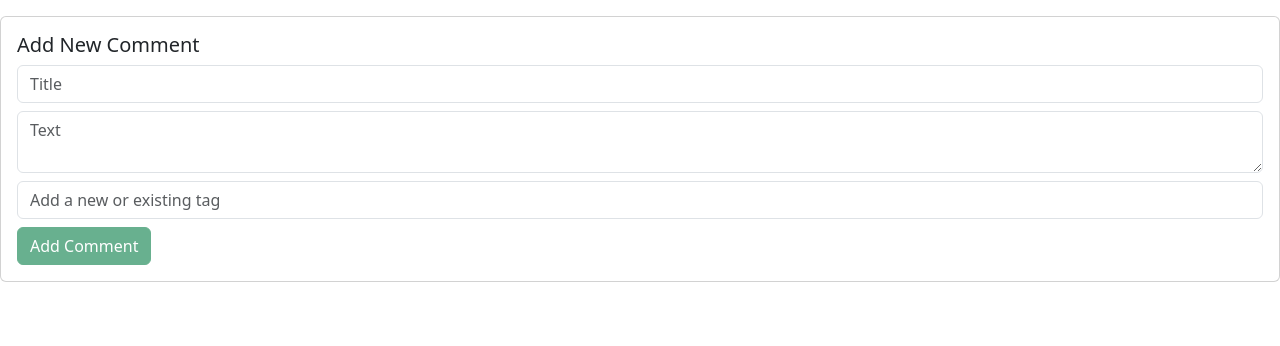
Test: CommentForm Component › adds a tag when pressing Enter
The width and height of the screenshot is (1280, 346).
Type "urgent" into the field with placeholder "Add a new or existing tag" at {"x": 640, "y": 200}, box [17,181,1263,219]
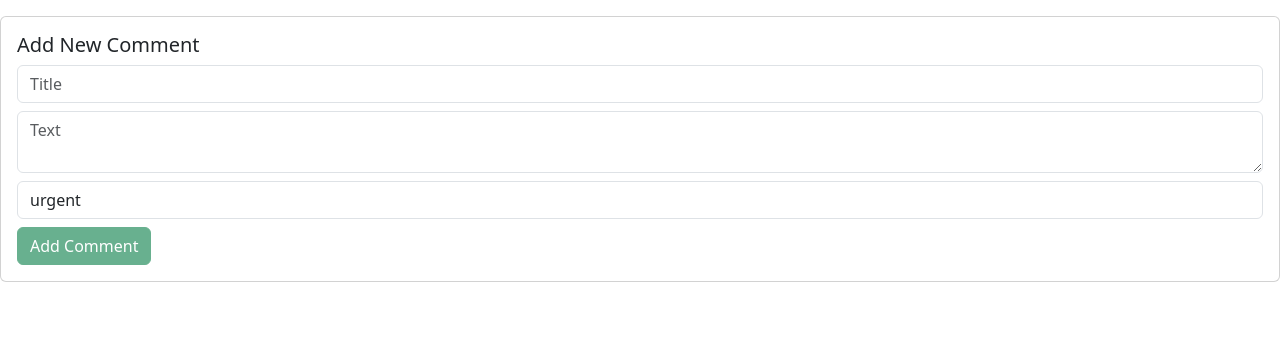
Press Enter in the field with placeholder "Add a new or existing tag", box [17,181,1263,219]
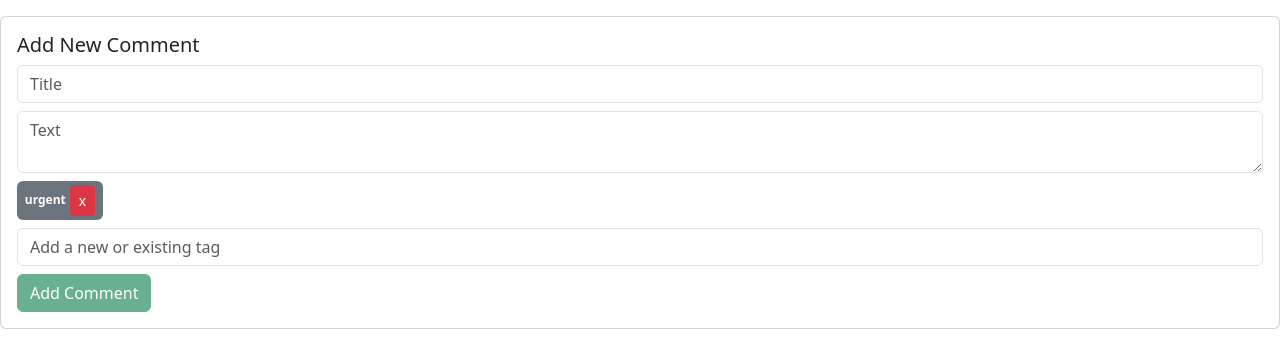
Check: the text "urgent" is shown, box [25,191,66,208]
